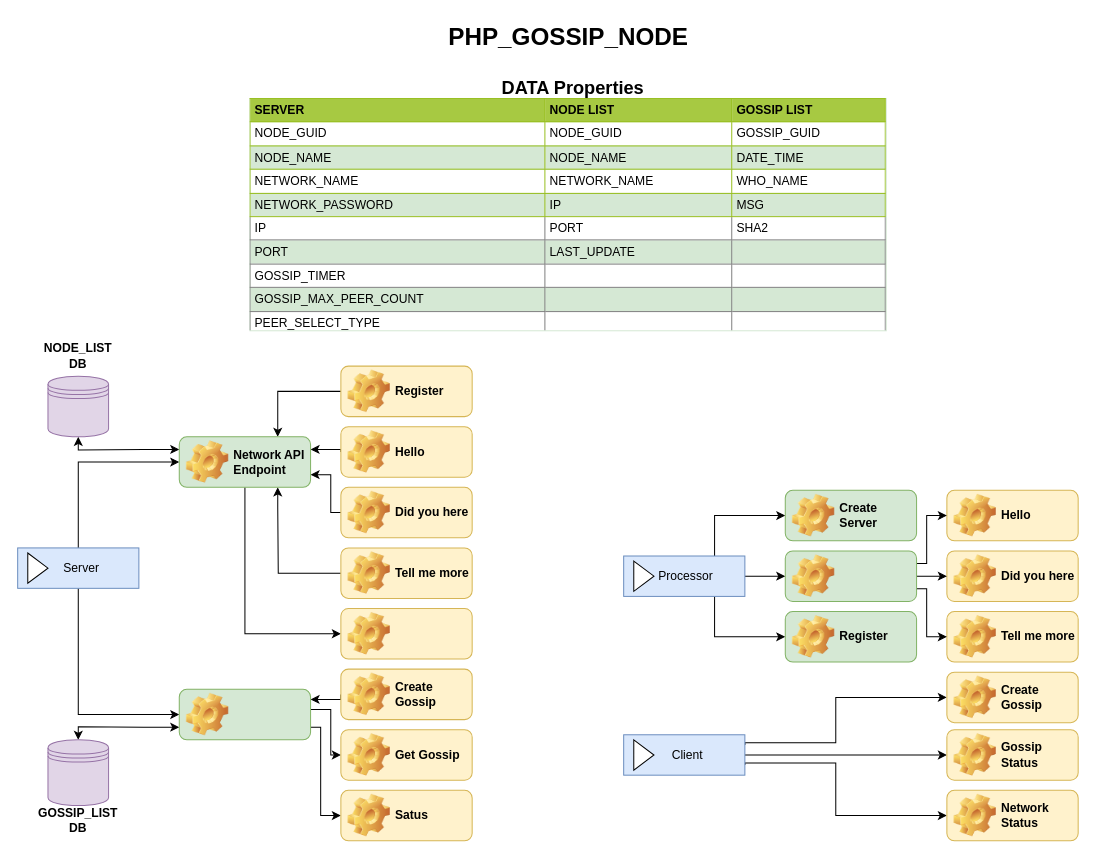
Some shapes in this 1096 by 859 pixel diagram are drawn without their labels. The shapes that lost their labels are listed below. From the top down, each one's centre as x and y in pixels, then its label:
At [850,575]: "Start Process".
At [406,633]: "Status".
At [244,714]: "Gossip API Endpoint".
